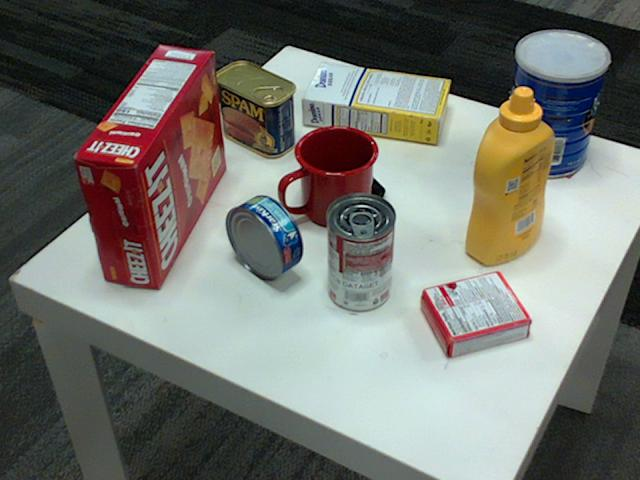cracker_box: (73, 42, 226, 285)
gelatin_box: (419, 272, 532, 358)
large_marker: (327, 137, 383, 199)
master_chef_can: (501, 31, 608, 178)
mug: (281, 123, 380, 225)
mustard_bottle: (464, 87, 555, 264)
potted_meat_can: (212, 62, 296, 157)
sugar_box: (303, 62, 453, 143)
tomato_soup_can: (326, 193, 396, 311)
tuna_fish_can: (226, 195, 303, 281)
